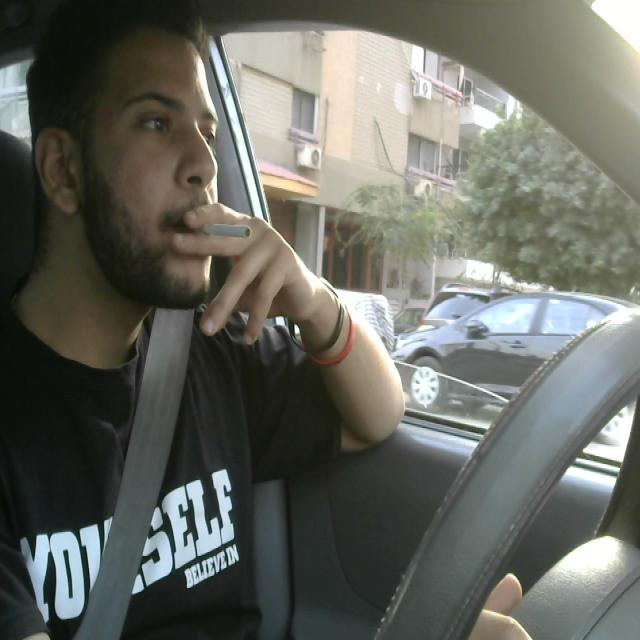smoking: (183, 218, 253, 245)
